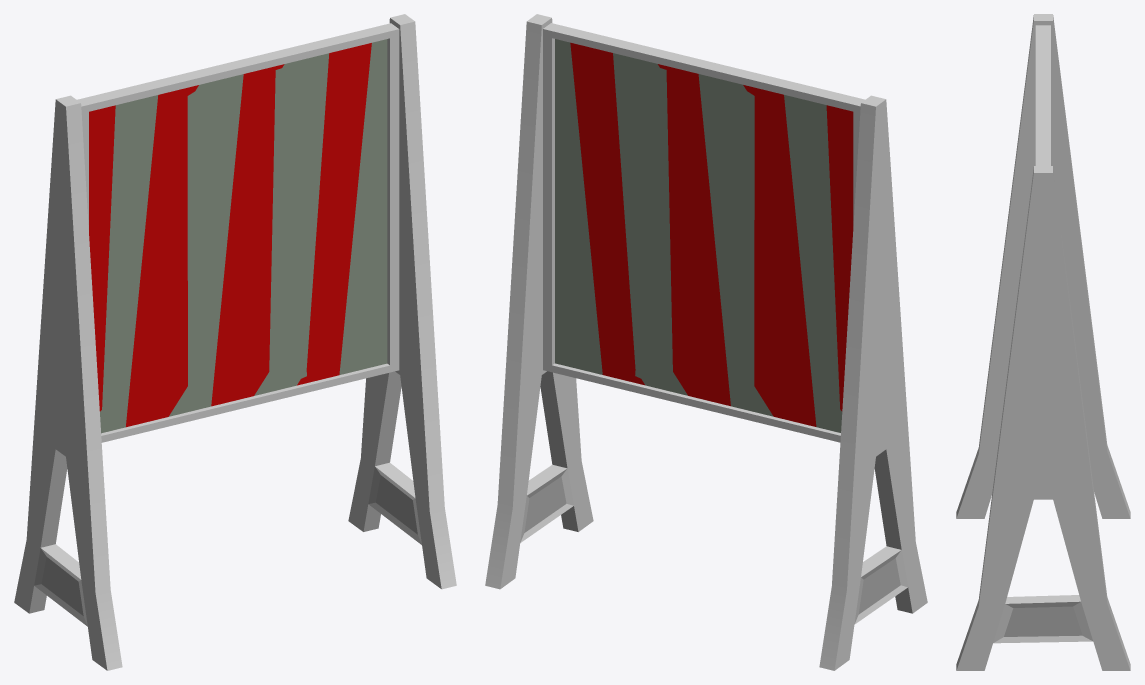
File: Obstacle 2.fbx
3 views of the same model, side by side, from view 1: azimuth 30°, elevation 25°; view 2: azimuth 150°, elevation 25°; view 3: azimuth 270°, elevation 25° (orthographic). The views are drawn at different scales.
Parts seen in each view (by area): view 1: SM_Prop_Barrier_01.001; view 2: SM_Prop_Barrier_01.001; view 3: SM_Prop_Barrier_01.001.
Part boxes in pixels (left/top/right/bottom): SM_Prop_Barrier_01.001: left=14, top=14, right=456, bottom=670; SM_Prop_Barrier_01.001: left=485, top=14, right=927, bottom=670; SM_Prop_Barrier_01.001: left=956, top=14, right=1130, bottom=670.
Size of the model in its own units: 288 by 420 by 133.
